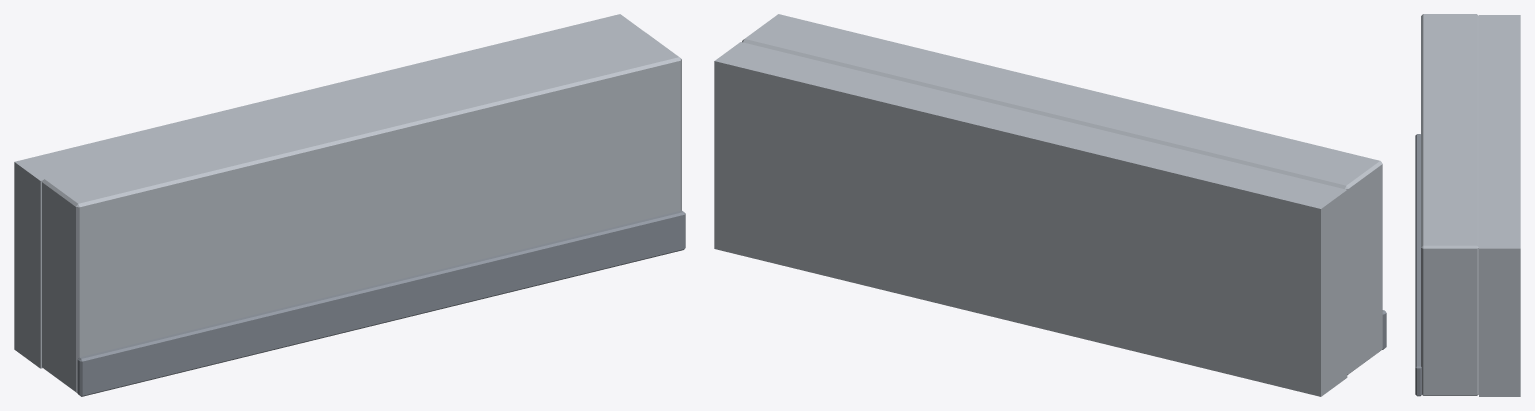
File: soco_h30_1m.glb
3 renders of one model, left to right at view 1: azimuth 30°, elevation 25°; view 2: azimuth 150°, elevation 25°; view 3: azimuth 270°, elevation 25°, orthographic. The views are drawn at different scales.
Parts seen in each view (by area): view 1: soco_h30_1m; view 2: soco_h30_1m; view 3: soco_h30_1m.
Boxes of the visible parts, <box> form: soco_h30_1m: <box>14,14,685,396</box>; soco_h30_1m: <box>714,14,1386,396</box>; soco_h30_1m: <box>1415,14,1520,396</box>.
Bounding box in the file's own units: 1 × 0.3 × 0.19.
Materials: 1 (1 with a texture image).
